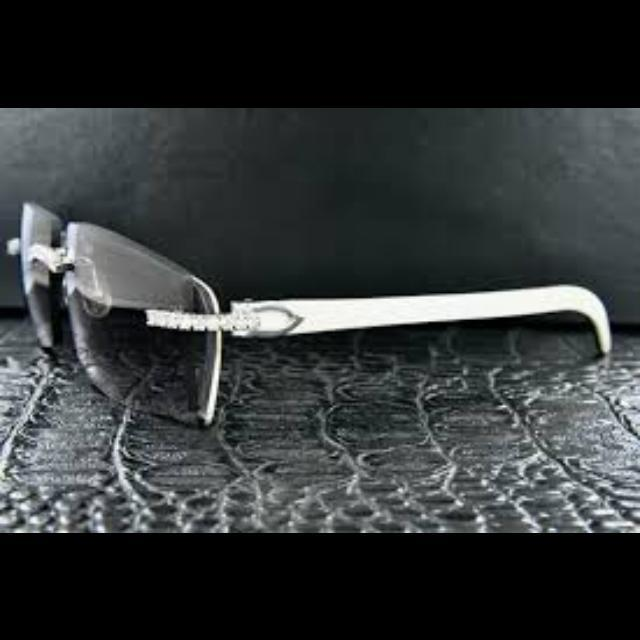sunglasses: (6, 197, 614, 425)
